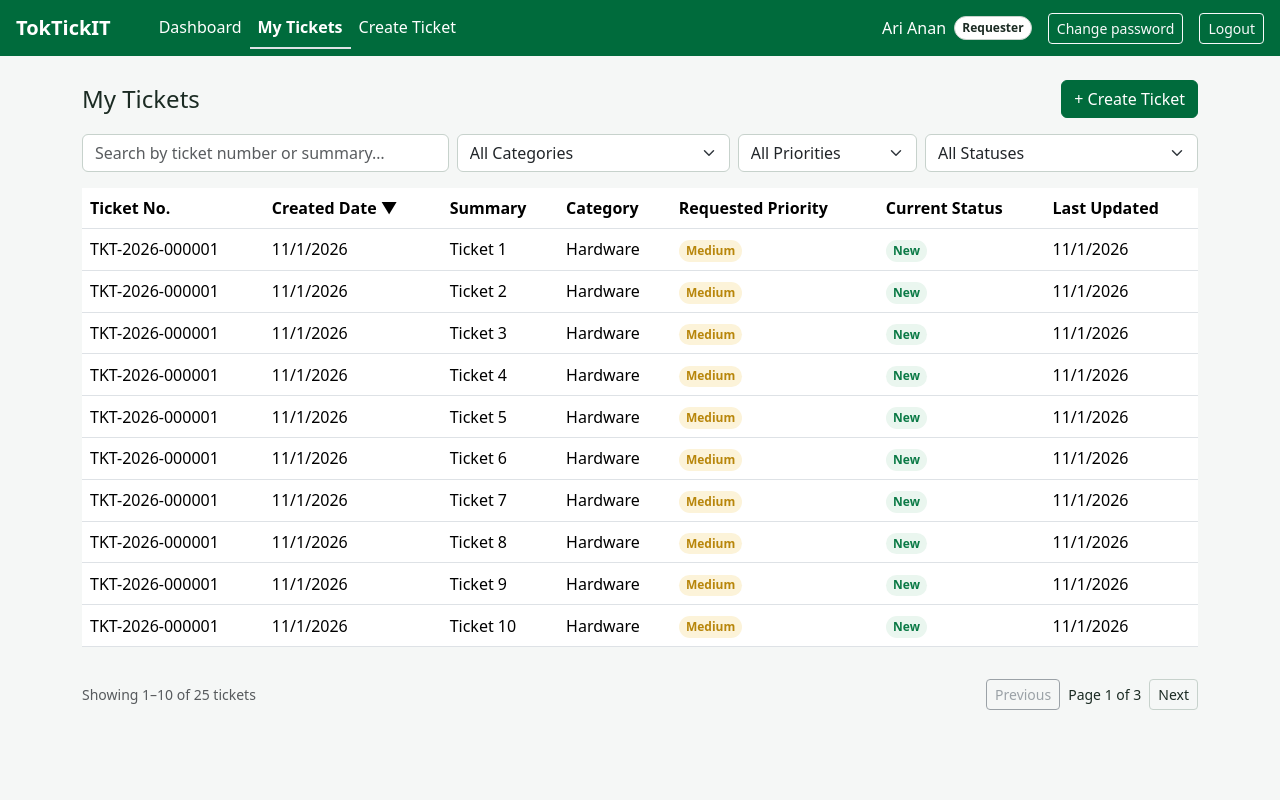
My Tickets › renders pagination controls and requests the next page on click (AC-13)
This screenshot has width=1280, height=800.
expect the text "Page 1 of 3" is shown: met, box [1068,684,1141,705]
Click the button "Next": x=1174, y=694 [1149,679,1198,710]
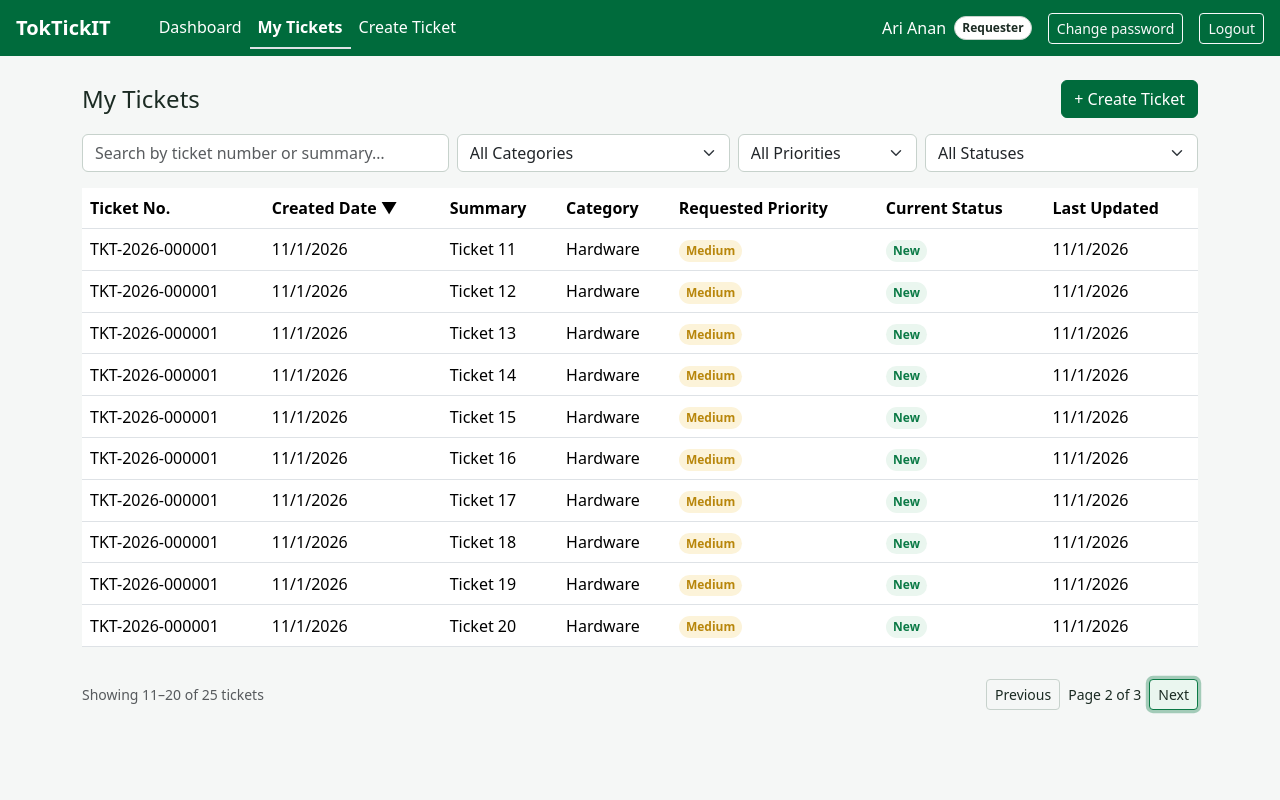
expect the text "Page 2 of 3" is shown: met, box [1068,684,1141,705]
